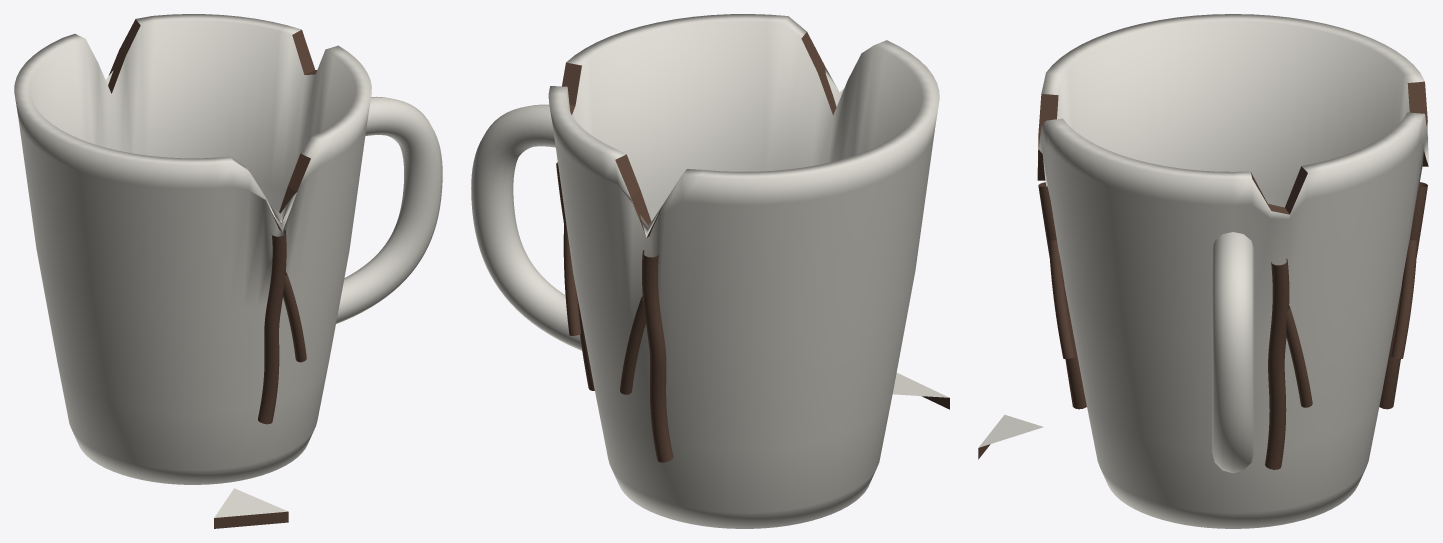
File: CrackedMilkCup.fbx
The picture shows the model from 3 angles, left to right: view 1: azimuth 30°, elevation 25°; view 2: azimuth 150°, elevation 25°; view 3: azimuth 270°, elevation 25°; orthographic projection. The views are drawn at different scales.
Visible parts, largest first — view 1: Fine cracked porcelain, Irregular glazed crack; view 2: Fine cracked porcelain, Back glazed crack; view 3: Fine cracked porcelain, Back glazed crack, Irregular glazed crack.
Part boxes in pixels (<box>): Fine cracked porcelain: <box>14,14,442,528</box>; Irregular glazed crack: <box>258,229,306,424</box>; Fine cracked porcelain: <box>471,14,949,528</box>; Back glazed crack: <box>556,162,673,462</box>; Fine cracked porcelain: <box>978,14,1428,528</box>; Back glazed crack: <box>1265,182,1427,469</box>; Irregular glazed crack: <box>1038,182,1086,409</box>.
Bounding box in the file's own units: 0.1155 × 0.095 × 0.1025.
